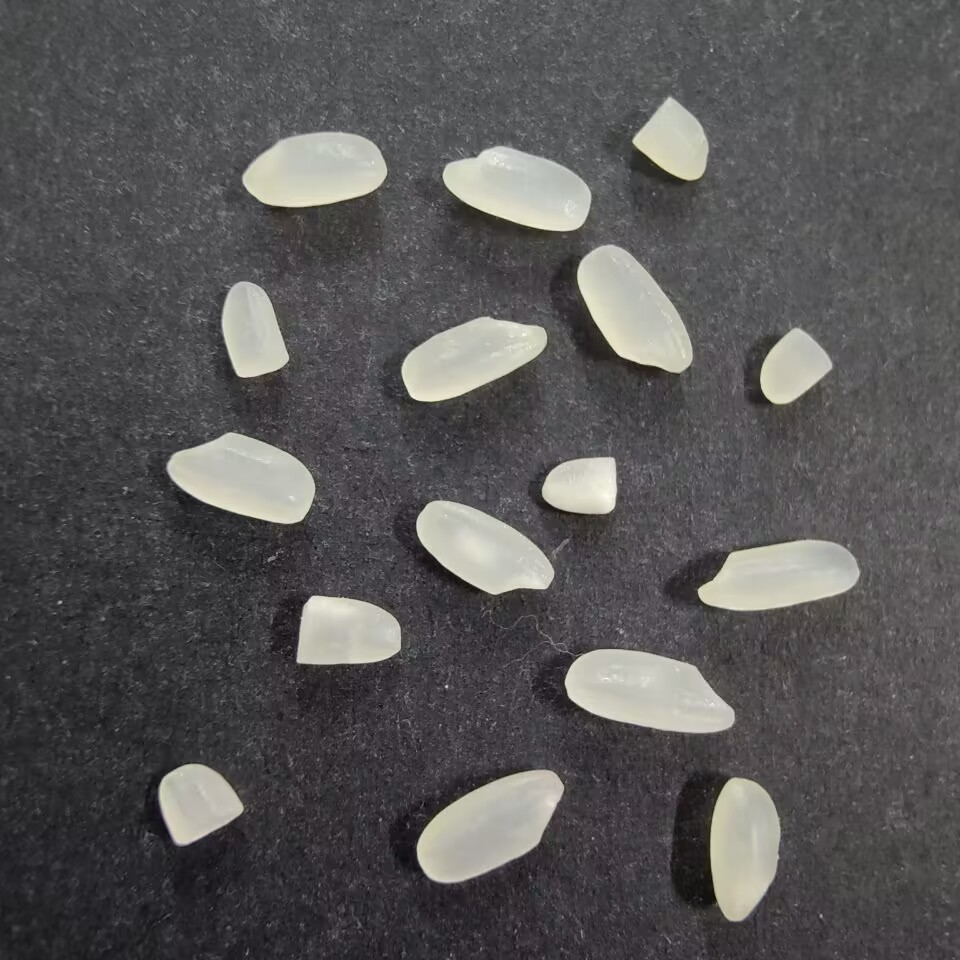broken: (292, 590, 404, 669), (156, 757, 248, 853), (215, 279, 294, 384), (629, 95, 712, 187), (756, 327, 835, 409), (539, 454, 621, 523)
rice: (415, 767, 565, 890), (562, 645, 739, 735), (573, 243, 691, 375), (162, 430, 317, 528), (414, 496, 557, 598), (400, 313, 552, 406), (438, 146, 594, 235), (694, 540, 863, 612), (242, 130, 391, 210), (708, 772, 783, 925)
